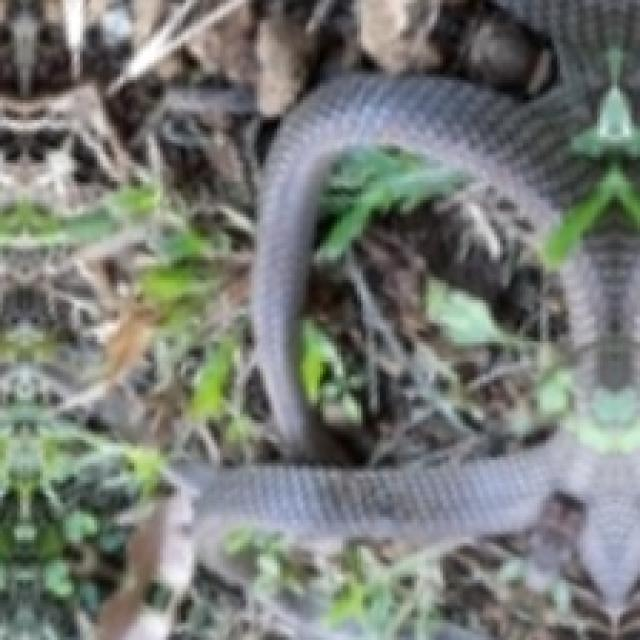paradise tree snake: (251, 74, 557, 457), (97, 429, 637, 637), (563, 243, 637, 383)
